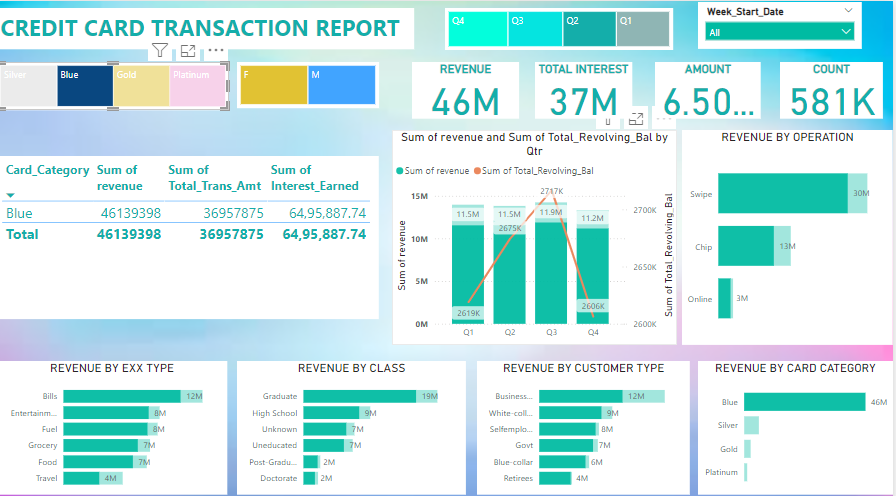

This screenshot's page, from the dashboard's own definition file:
{"tool":"powerbi","page":{"name":"transaction report","canvas":[1280,720],"ordinal":1},"visuals":[{"type":"textbox","box":[9.9,0,595.3,58.1],"z":0},{"type":"lineStackedColumnComboChart","fields":{"Category":["ccdb cc_detail.Qtr"],"Y":["Sum(ccdb cc_detail.revenue)"],"Y2":["Sum(ccdb cc_detail.Total_Revolving_Bal)"]},"box":[559.8,181.4,406.8,307.6],"z":1000},{"type":"barChart","title":"REVENUE BY EXX TYPE","fields":{"Category":["ccdb cc_detail.Exp Type"],"Y":["Sum(ccdb cc_detail.revenue)"]},"box":[0,504.6,328.8,215.4],"z":2000},{"type":"barChart","title":"REVENUE BY CUSTOMER TYPE","fields":{"Category":["ccdb cust_detail.Customer_Job"],"Y":["Sum(ccdb cc_detail.revenue)"]},"box":[686,504.6,303.3,215.4],"z":3000},{"type":"barChart","title":"REVENUE BY CLASS","fields":{"Y":["Sum(ccdb cc_detail.revenue)"],"Category":["ccdb cust_detail.Education_Level"]},"box":[343,504.6,327.4,215.4],"z":4000},{"type":"barChart","title":"REVENUE BY CARD CATEGORY","fields":{"Category":["ccdb cc_detail.Card_Category"],"Y":["Sum(ccdb cc_detail.revenue)"]},"box":[1002,504.6,277.8,215.4],"z":5000},{"type":"barChart","title":"REVENUE BY OPERATION","fields":{"Category":["ccdb cc_detail.Use Chip"],"Y":["Sum(ccdb cc_detail.revenue)"]},"box":[978,181.4,301.9,307.6],"z":6000},{"type":"tableEx","fields":{"Values":["ccdb cc_detail.Card_Category","Sum(ccdb cc_detail.revenue)","Sum(ccdb cc_detail.Total_Trans_Amt)","Sum(ccdb cc_detail.Interest_Earned)"]},"box":[0,216.9,544.3,236.7],"z":7000},{"type":"card","title":"REVENUE","fields":{"Values":["Sum(ccdb cc_detail.revenue)"]},"box":[9.9,85,121.9,82.2],"z":8000},{"type":"card","title":"TOTAL INTEREST","fields":{"Values":["Sum(ccdb cc_detail.Total_Trans_Amt)"]},"box":[141.7,85,138.9,82.2],"z":9000},{"type":"card","title":"AMOUNT","fields":{"Values":["Sum(ccdb cc_detail.Interest_Earned)"]},"box":[292,85,163,82.2],"z":10000},{"type":"card","title":"COUNT","fields":{"Values":["Sum(ccdb cc_detail.Total_Trans_Vol)"]},"box":[479.1,85,161.6,82.2],"z":11000},{"type":"slicer","fields":{"Values":["ccdb cc_detail.Week_Start_Date"]},"box":[1094.2,9.9,168.7,75.1],"z":12000},{"type":"treemap","fields":{"Group":["ccdb cc_detail.Qtr"],"Values":["Avg(ccdb cust_detail.ï»¿Client_Num)"]},"box":[670.4,9.9,326,59.5],"z":13000},{"type":"treemap","fields":{"Group":["ccdb cust_detail.Gender"],"Values":["Avg(ccdb cust_detail.ï»¿Client_Num)"]},"box":[1077.2,100.6,202.7,65.2],"z":14000},{"type":"treemap","fields":{"Group":["ccdb cc_detail.Card_Category"],"Values":["Avg(ccdb cust_detail.ï»¿Client_Num)"]},"box":[670.4,83.6,331.7,69.4],"z":15000}]}

Visuals, with their boxes on the page's 1280x720 design canvas (x1, y1, x2, y2). These are canvas units, not pixel positions in the 896x496 screenshot, which may show the page scaled, cropped or inside an application window:
textbox: Rect(10, 0, 605, 58)
lineStackedColumnComboChart - ccdb cc_detail.Qtr x Sum(ccdb cc_detail.revenue): Rect(560, 181, 967, 489)
"REVENUE BY EXX TYPE" barChart: Rect(0, 505, 329, 720)
"REVENUE BY CUSTOMER TYPE" barChart: Rect(686, 505, 989, 720)
"REVENUE BY CLASS" barChart: Rect(343, 505, 670, 720)
"REVENUE BY CARD CATEGORY" barChart: Rect(1002, 505, 1280, 720)
"REVENUE BY OPERATION" barChart: Rect(978, 181, 1280, 489)
tableEx - ccdb cc_detail.Card_Category x Sum(ccdb cc_detail.revenue): Rect(0, 217, 544, 454)
"REVENUE" card: Rect(10, 85, 132, 167)
"TOTAL INTEREST" card: Rect(142, 85, 281, 167)
"AMOUNT" card: Rect(292, 85, 455, 167)
"COUNT" card: Rect(479, 85, 641, 167)
slicer - ccdb cc_detail.Week_Start_Date: Rect(1094, 10, 1263, 85)
treemap - ccdb cc_detail.Qtr x Avg(ccdb cust_detail.ï»¿Client_Num): Rect(670, 10, 996, 69)
treemap - ccdb cust_detail.Gender x Avg(ccdb cust_detail.ï»¿Client_Num): Rect(1077, 101, 1280, 166)
treemap - ccdb cc_detail.Card_Category x Avg(ccdb cust_detail.ï»¿Client_Num): Rect(670, 84, 1002, 153)
